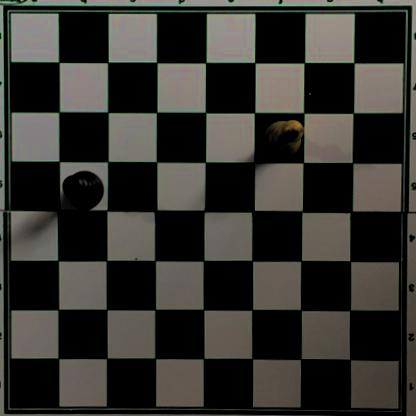black-king: (62, 167, 105, 210)
white-king: (261, 117, 304, 161)
